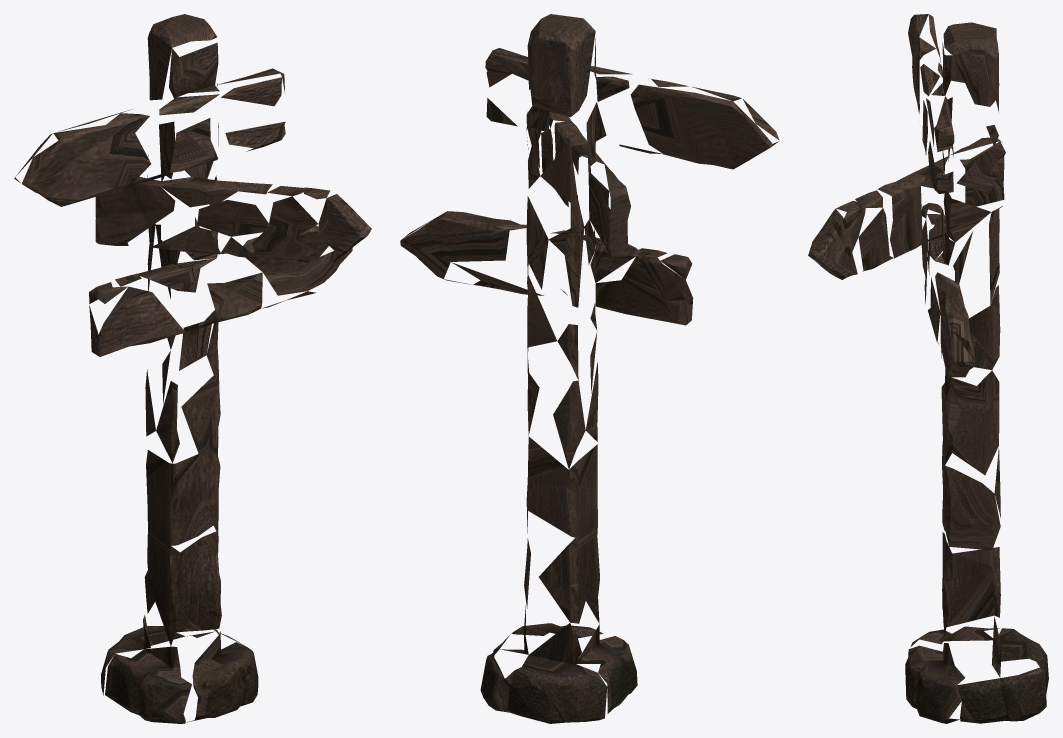
Rendered from prp_signpost_a_LOD1.glb.
3 renders of one model, left to right at view 1: azimuth 30°, elevation 25°; view 2: azimuth 150°, elevation 25°; view 3: azimuth 270°, elevation 25°, orthographic.
Visible parts, largest first — view 1: geometry_0; view 2: geometry_0; view 3: geometry_0.
Part boxes in pixels (x1,y1,x2,y2): geometry_0: (14, 14, 371, 723); geometry_0: (400, 14, 779, 723); geometry_0: (808, 14, 1048, 723).
Size of the model in its own units: 1.42 by 2.6 by 0.8531.
Materials: 1 (1 with a texture image).
